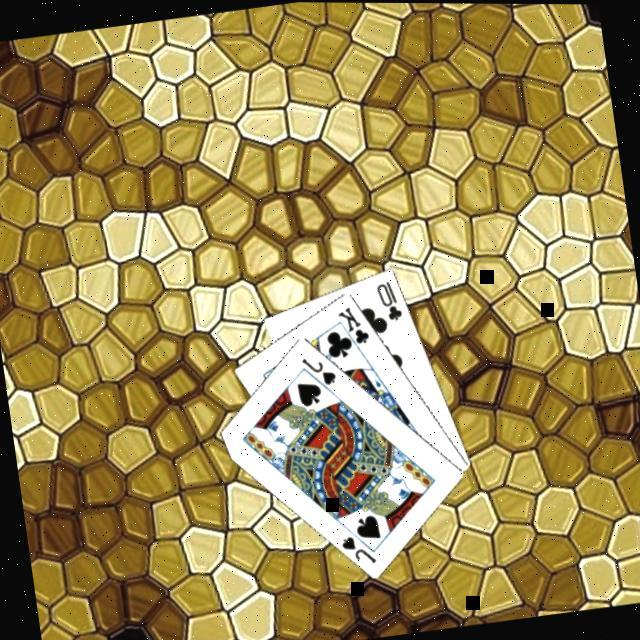10C: (374, 274, 408, 323)
JS: (300, 349, 343, 390), (339, 527, 382, 568)
KC: (335, 299, 377, 355)
